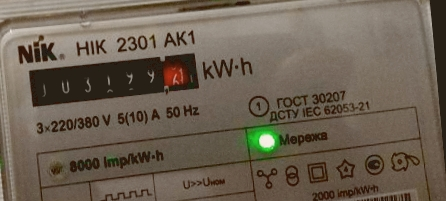0: (58, 75, 71, 95), (36, 78, 46, 97)
1: (102, 68, 113, 87)
3: (80, 73, 92, 94)
6: (168, 70, 180, 85)
9: (123, 65, 135, 86), (145, 65, 156, 84)
screen: (20, 43, 206, 113)
